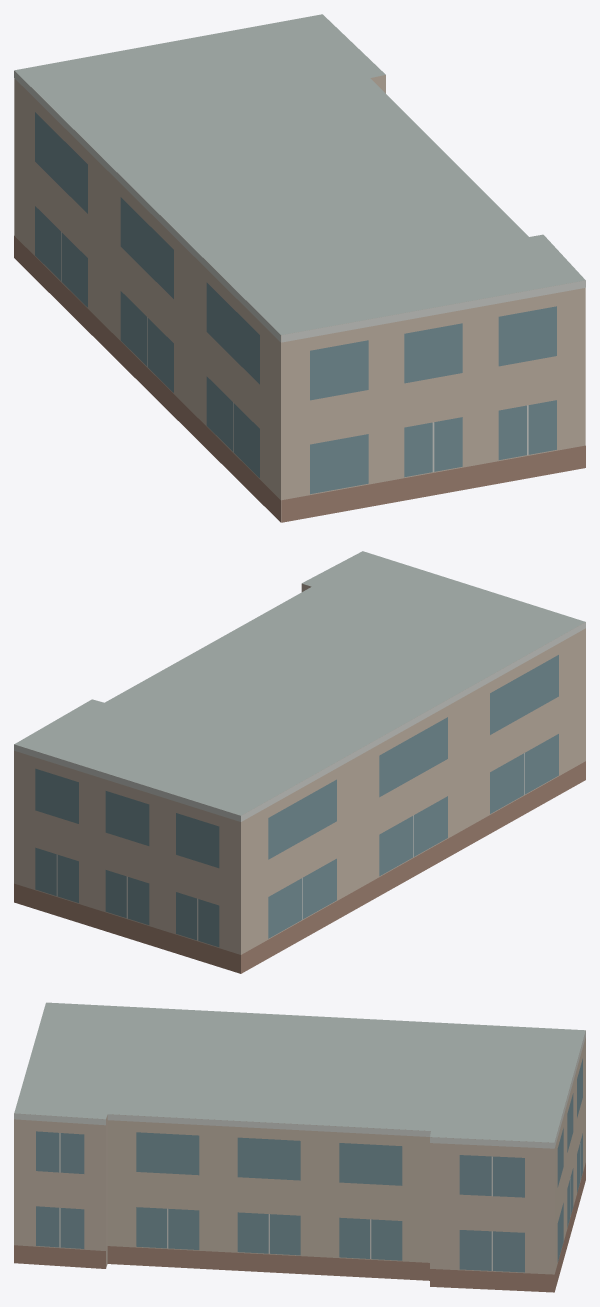
The model's file is survey-upis-33003995.glb.
3 renders of one model, top to bottom at view 1: azimuth 30°, elevation 25°; view 2: azimuth 150°, elevation 25°; view 3: azimuth 270°, elevation 25°, orthographic. The views are drawn at different scales.
Parts seen in each view (by area): view 1: survey-upis-33003995.tmp; view 2: survey-upis-33003995.tmp; view 3: survey-upis-33003995.tmp.
Part boxes in pixels (<box>): survey-upis-33003995.tmp: <box>14,14,585,522</box>; survey-upis-33003995.tmp: <box>14,551,585,973</box>; survey-upis-33003995.tmp: <box>14,1002,585,1292</box>.
Size of the model in its own units: 12.26 by 6.1 by 21.12.
